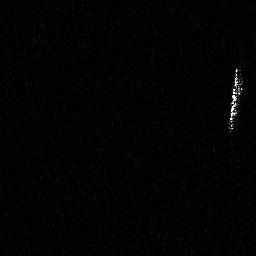ship: (226, 64, 245, 135)
